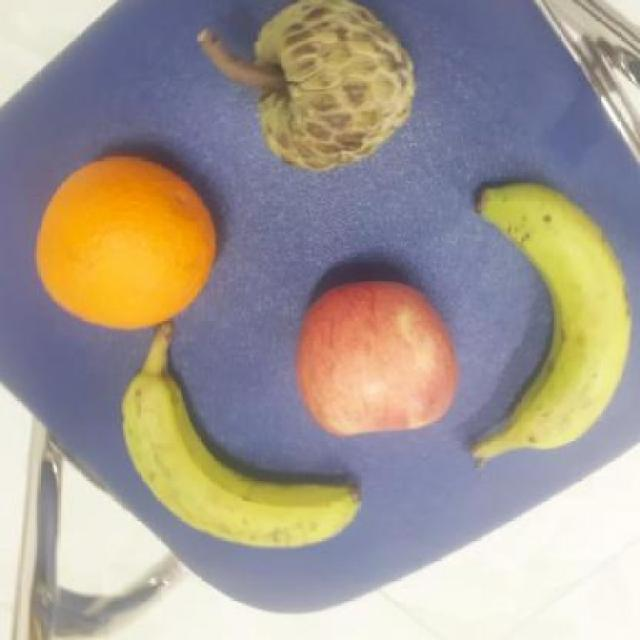apple: (290, 269, 462, 440)
banana: (118, 363, 362, 554), (468, 180, 624, 468)
oren: (31, 154, 218, 335)
sugar apple: (252, 0, 416, 172)
